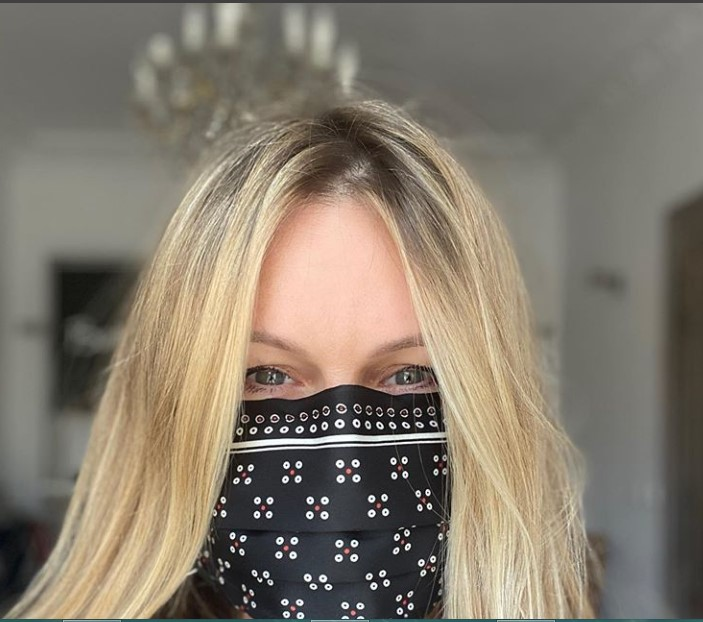face_with_mask: (150, 138, 514, 622)
